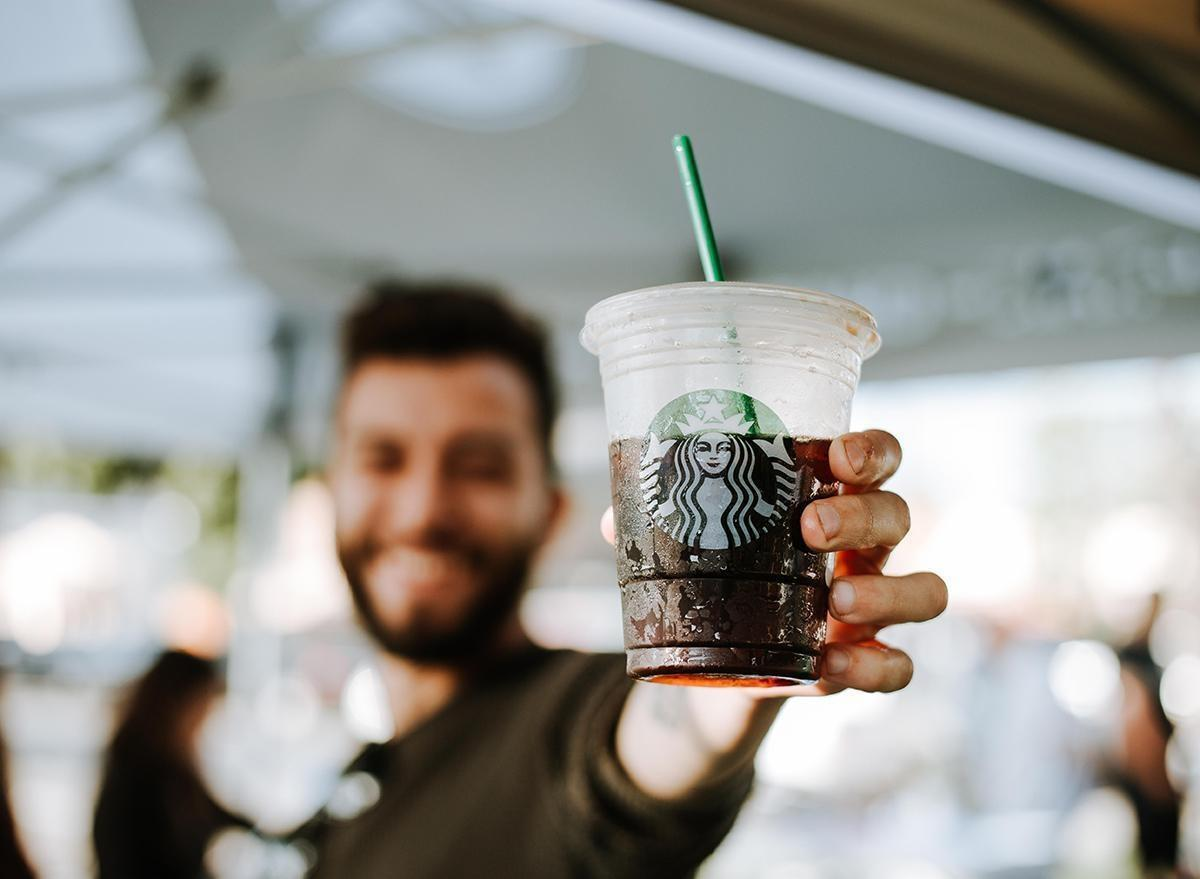cup-disposable: (573, 281, 879, 693)
